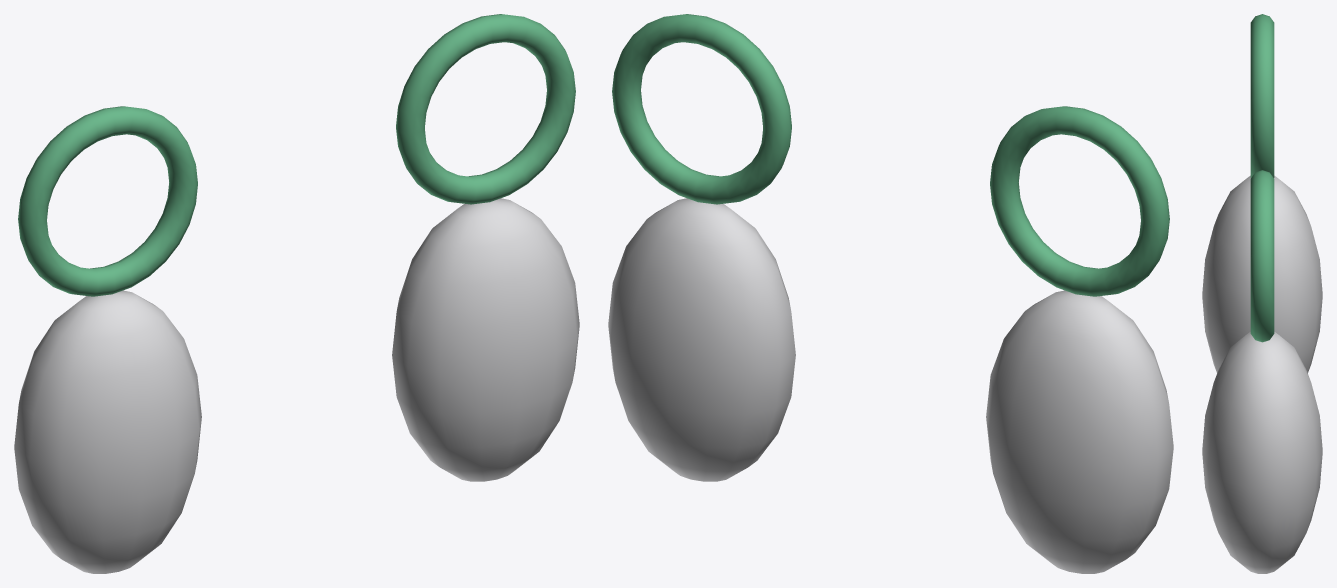
Rendered from VM-DAM-SH38703244.glb.
3 renders of one model, left to right at view 1: azimuth 30°, elevation 25°; view 2: azimuth 150°, elevation 25°; view 3: azimuth 270°, elevation 25°, orthographic. The views are drawn at different scales.
Parts seen in each view (by area): view 1: Arete Sol Dorado y Verde; view 2: Arete Sol Dorado y Verde; view 3: Arete Sol Dorado y Verde.
Part boxes in pixels (x1,y1,x2,y2): Arete Sol Dorado y Verde: (14, 14, 579, 573); Arete Sol Dorado y Verde: (608, 14, 1173, 573); Arete Sol Dorado y Verde: (1202, 14, 1322, 573).
Bounding box in the file's own units: 0.0933 × 0.0742 × 0.0208.
